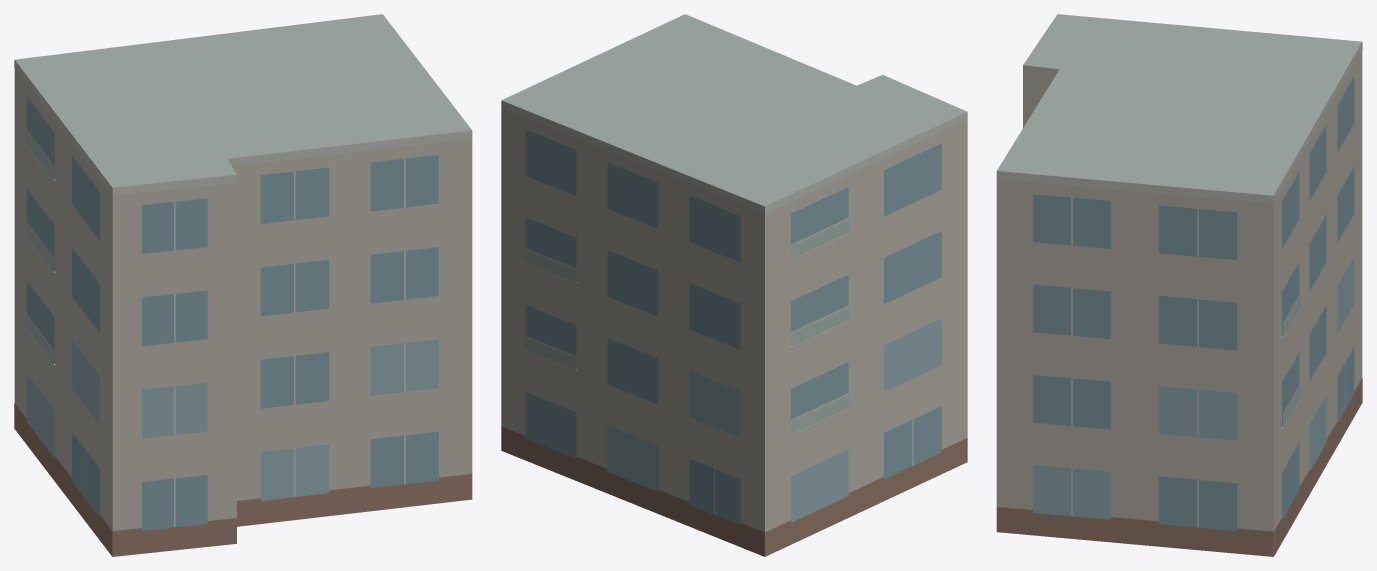
Rendered from survey-upis-32528022.glb.
The picture shows the model from 3 angles, left to right: view 1: azimuth 30°, elevation 25°; view 2: azimuth 150°, elevation 25°; view 3: azimuth 270°, elevation 25°; orthographic projection. The views are drawn at different scales.
Parts seen in each view (by area): view 1: survey-upis-32528022.tmp; view 2: survey-upis-32528022.tmp; view 3: survey-upis-32528022.tmp.
Boxes of the visible parts, bbox=[...] form: survey-upis-32528022.tmp: bbox=[14, 14, 472, 556]; survey-upis-32528022.tmp: bbox=[501, 14, 967, 556]; survey-upis-32528022.tmp: bbox=[996, 14, 1362, 556].
Size of the model in its own units: 12.04 by 11.15 by 10.24.
